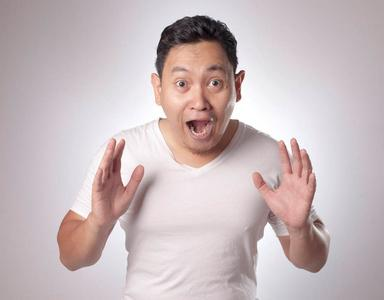张嘴: (181, 114, 223, 143)
